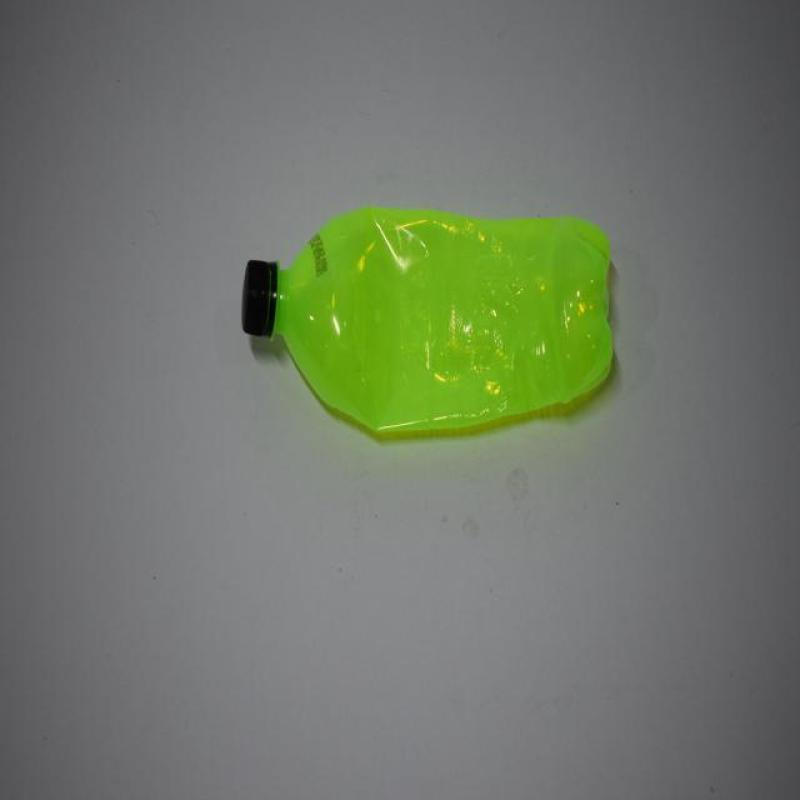botella: (242, 206, 618, 436)
